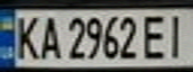2: (63, 12, 87, 61), (118, 12, 142, 61)
6: (103, 12, 124, 61)
9: (84, 12, 106, 61)
A: (36, 12, 63, 61)
E: (139, 11, 172, 61)
I: (163, 11, 193, 60)
K: (9, 12, 42, 61)
